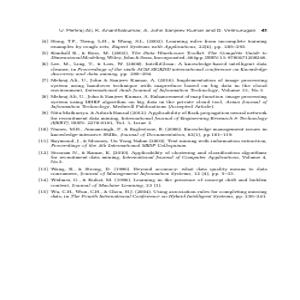text: (33, 28, 271, 204)
